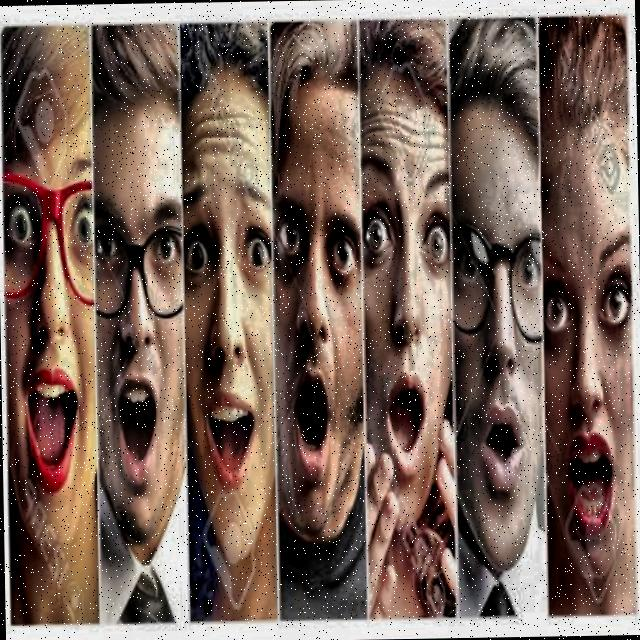surprised: (443, 30, 548, 596), (358, 20, 462, 523), (272, 10, 368, 546), (93, 27, 194, 532), (180, 18, 278, 529), (3, 23, 98, 537), (544, 121, 640, 572)
